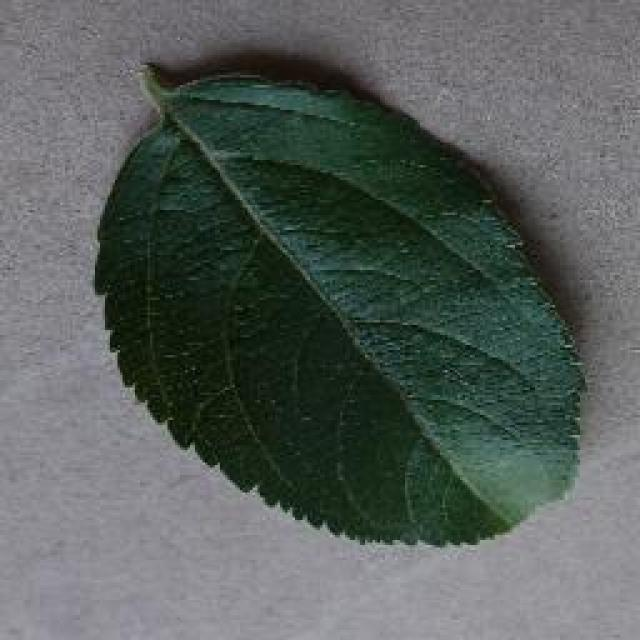apple healthy: (90, 55, 590, 547)
